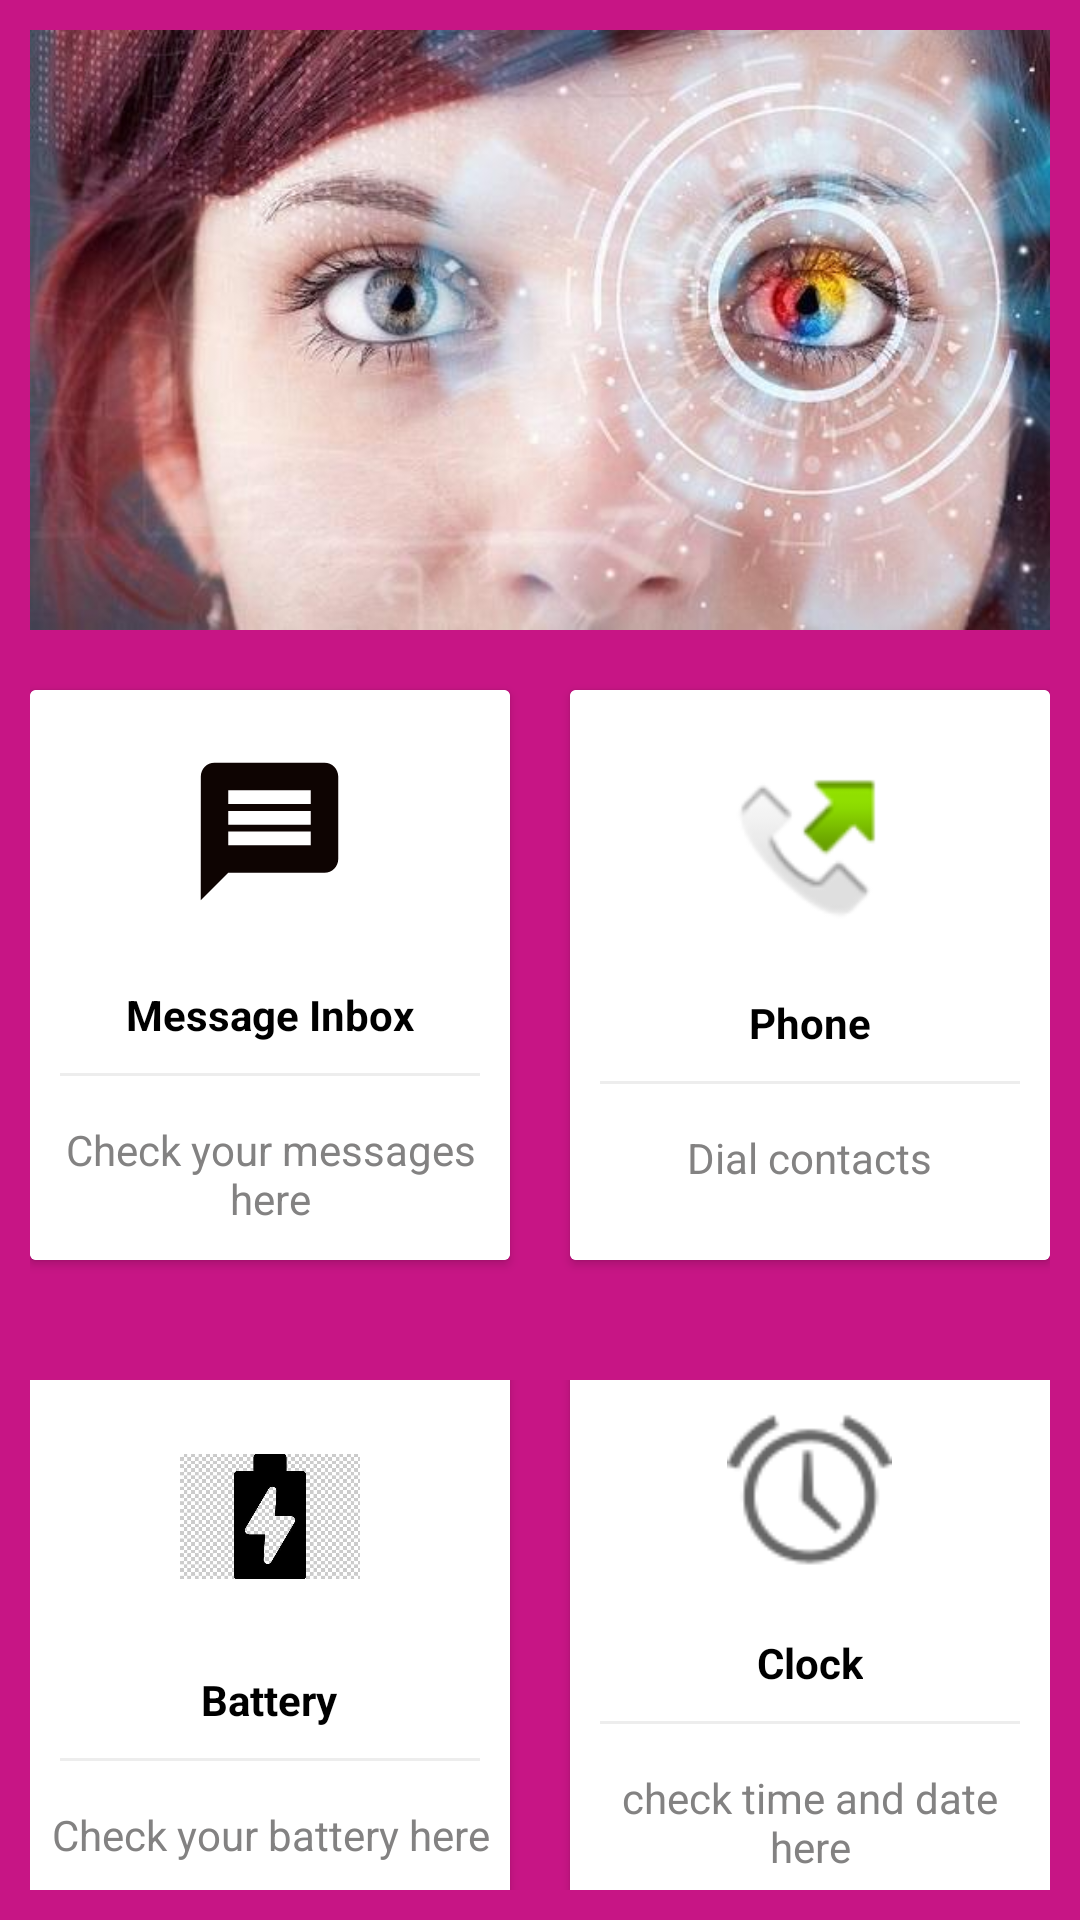

Where to tap for icons on this 1080x1920 app screen, as point (x, y):
lock idle alarm: point (809, 1489)
